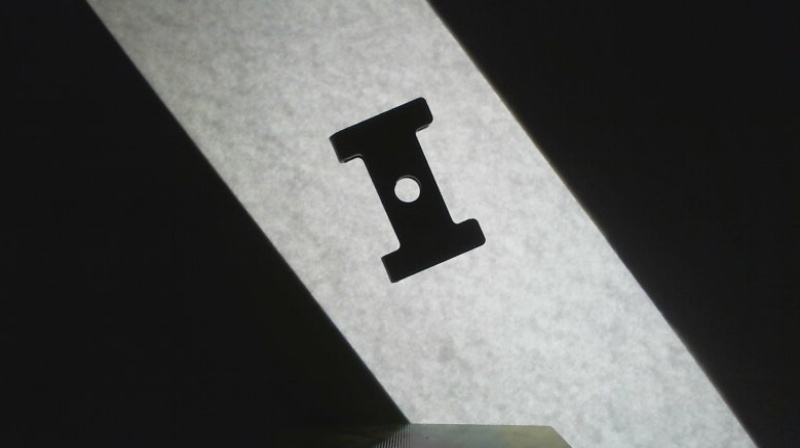O002: (327, 95, 488, 286)
